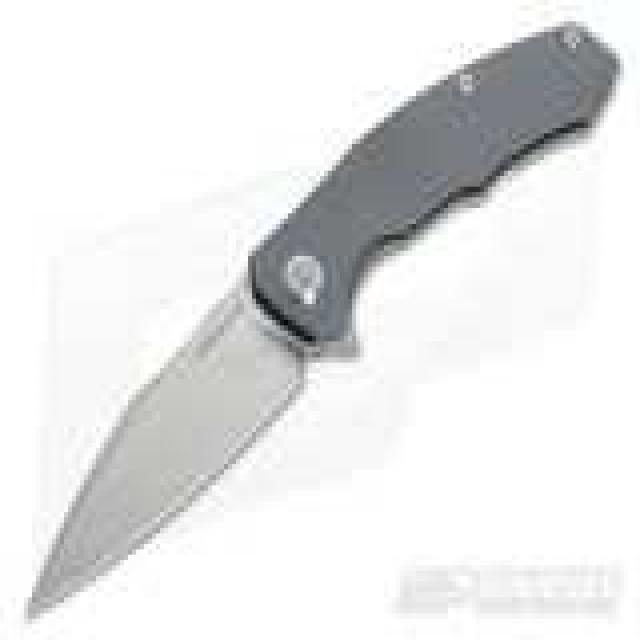knife: (20, 0, 640, 619)
